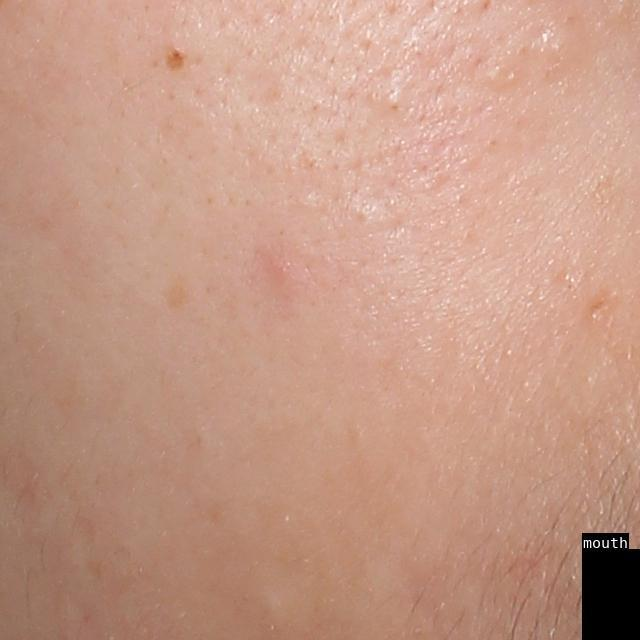comedo: (259, 589, 293, 624), (379, 86, 404, 112)
nevus: (163, 45, 187, 72)
